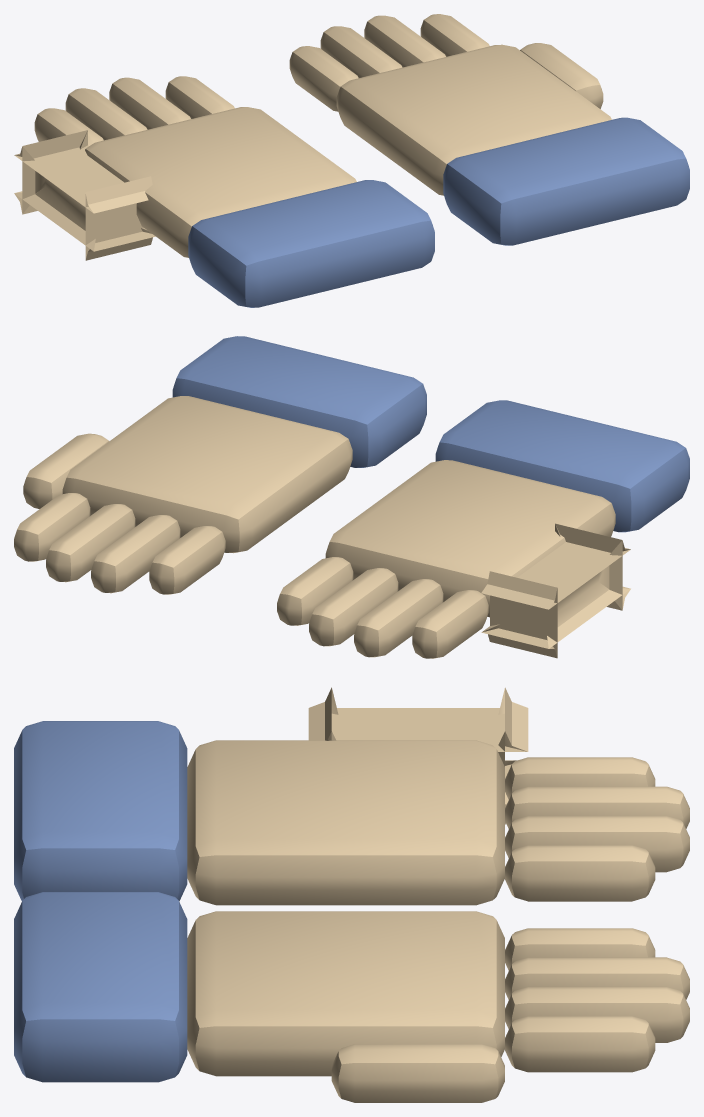
Rendered from SER-EPI-003.glb.
The picture shows the model from 3 angles, top to bottom: view 1: azimuth 30°, elevation 25°; view 2: azimuth 150°, elevation 25°; view 3: azimuth 270°, elevation 25°; orthographic projection. The views are drawn at different scales.
Visible parts, largest first — view 1: SER-EPI-003_punho1, SER-EPI-003_punho-1, SER-EPI-003_palma1, SER-EPI-003_palma-1, SER-EPI-003_polegar-1, SER-EPI-003_dedo10, SER-EPI-003_dedo-11, SER-EPI-003_dedo11, SER-EPI-003_dedo-12, SER-EPI-003_dedo12, SER-EPI-003_polegar1, SER-EPI-003_dedo-13 (+2 smaller); view 2: SER-EPI-003_palma1, SER-EPI-003_palma-1, SER-EPI-003_punho-1, SER-EPI-003_punho1, SER-EPI-003_polegar-1, SER-EPI-003_dedo-11, SER-EPI-003_dedo11, SER-EPI-003_dedo-12, SER-EPI-003_dedo12, SER-EPI-003_dedo-10, SER-EPI-003_dedo10, SER-EPI-003_dedo13 (+2 smaller); view 3: SER-EPI-003_palma-1, SER-EPI-003_palma1, SER-EPI-003_punho1, SER-EPI-003_punho-1, SER-EPI-003_polegar1, SER-EPI-003_polegar-1, SER-EPI-003_dedo-13, SER-EPI-003_dedo13, SER-EPI-003_dedo12, SER-EPI-003_dedo-12, SER-EPI-003_dedo11, SER-EPI-003_dedo-11 (+2 smaller).
Boxes of the visible parts, box(x1,y1,x2,y2) form: SER-EPI-003_punho1: box(443, 117, 689, 245); SER-EPI-003_punho-1: box(188, 180, 434, 307); SER-EPI-003_palma1: box(336, 44, 611, 195); SER-EPI-003_palma-1: box(85, 107, 356, 257); SER-EPI-003_polegar-1: box(14, 130, 155, 260); SER-EPI-003_dedo10: box(289, 46, 358, 111); SER-EPI-003_dedo-11: box(65, 88, 147, 140); SER-EPI-003_dedo11: box(320, 26, 402, 77); SER-EPI-003_dedo-12: box(109, 77, 190, 129); SER-EPI-003_dedo12: box(364, 15, 445, 67); SER-EPI-003_polegar1: box(520, 43, 603, 108); SER-EPI-003_dedo-13: box(165, 76, 234, 118); SER-EPI-003_palma1: box(62, 396, 352, 553); SER-EPI-003_palma-1: box(325, 460, 615, 617); SER-EPI-003_punho-1: box(435, 400, 689, 532); SER-EPI-003_punho1: box(172, 336, 426, 467); SER-EPI-003_polegar-1: box(481, 523, 630, 658); SER-EPI-003_dedo-11: box(354, 579, 443, 657); SER-EPI-003_dedo11: box(91, 515, 180, 593); SER-EPI-003_dedo-12: box(309, 568, 398, 646); SER-EPI-003_dedo12: box(46, 504, 135, 582); SER-EPI-003_dedo-10: box(412, 590, 488, 658); SER-EPI-003_dedo10: box(149, 526, 225, 594); SER-EPI-003_dedo13: box(14, 493, 90, 561); SER-EPI-003_palma-1: box(187, 740, 504, 905); SER-EPI-003_palma1: box(187, 911, 504, 1076); SER-EPI-003_punho1: box(14, 892, 187, 1082); SER-EPI-003_punho-1: box(14, 721, 187, 901); SER-EPI-003_polegar1: box(331, 1044, 504, 1102); SER-EPI-003_polegar-1: box(308, 687, 528, 824); SER-EPI-003_dedo-13: box(505, 845, 655, 901); SER-EPI-003_dedo13: box(505, 1016, 655, 1072); SER-EPI-003_dedo12: box(505, 986, 689, 1042); SER-EPI-003_dedo-12: box(505, 816, 689, 872); SER-EPI-003_dedo11: box(505, 957, 689, 999); SER-EPI-003_dedo-11: box(505, 786, 689, 828).
Bounding box in the file's own units: 0.288 × 0.038 × 0.234.
